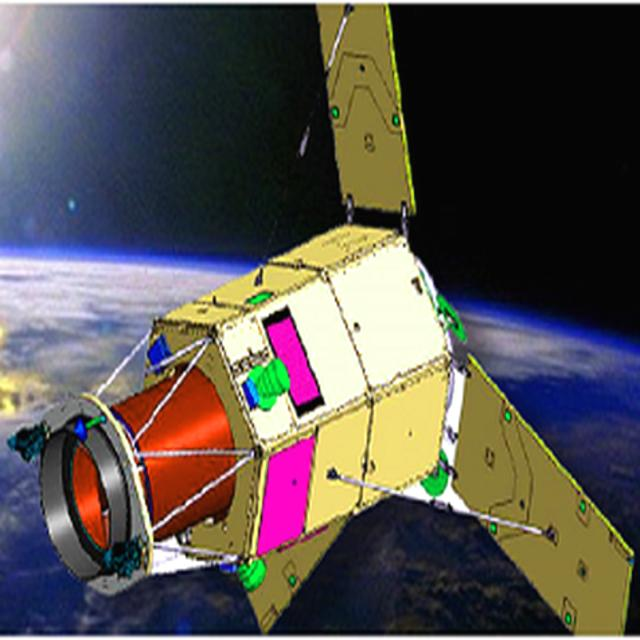medium_debris: (2, 4, 638, 632)
